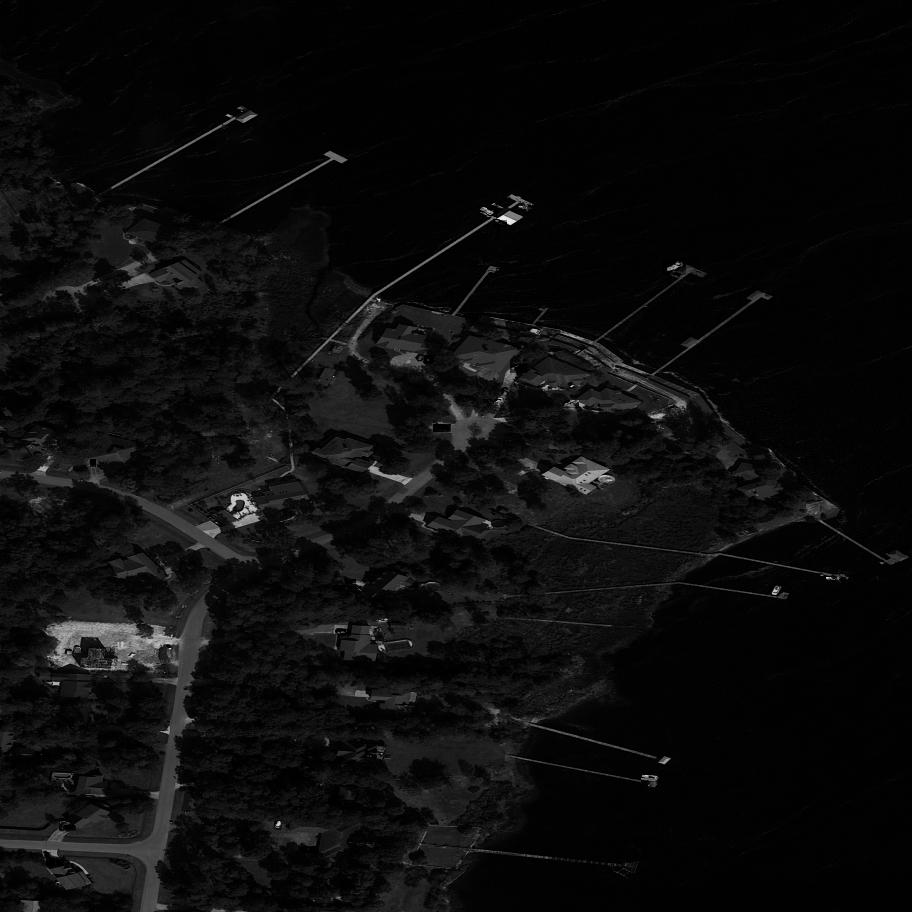ship: (662, 258, 687, 277), (479, 205, 497, 219), (769, 583, 784, 598), (562, 399, 579, 411), (510, 364, 527, 375), (493, 219, 507, 230), (642, 776, 659, 783), (518, 205, 531, 211), (827, 578, 843, 581)
small-vehicle: (434, 423, 451, 433), (301, 845, 316, 853), (61, 821, 71, 832), (495, 397, 505, 408), (64, 825, 76, 833), (47, 858, 56, 868), (274, 820, 283, 830), (425, 355, 433, 366), (501, 387, 509, 397), (56, 858, 64, 867), (334, 585, 346, 591), (35, 753, 49, 758), (345, 579, 356, 585), (337, 630, 350, 635), (74, 647, 82, 654), (45, 852, 51, 859), (90, 460, 96, 466), (349, 586, 360, 588)
